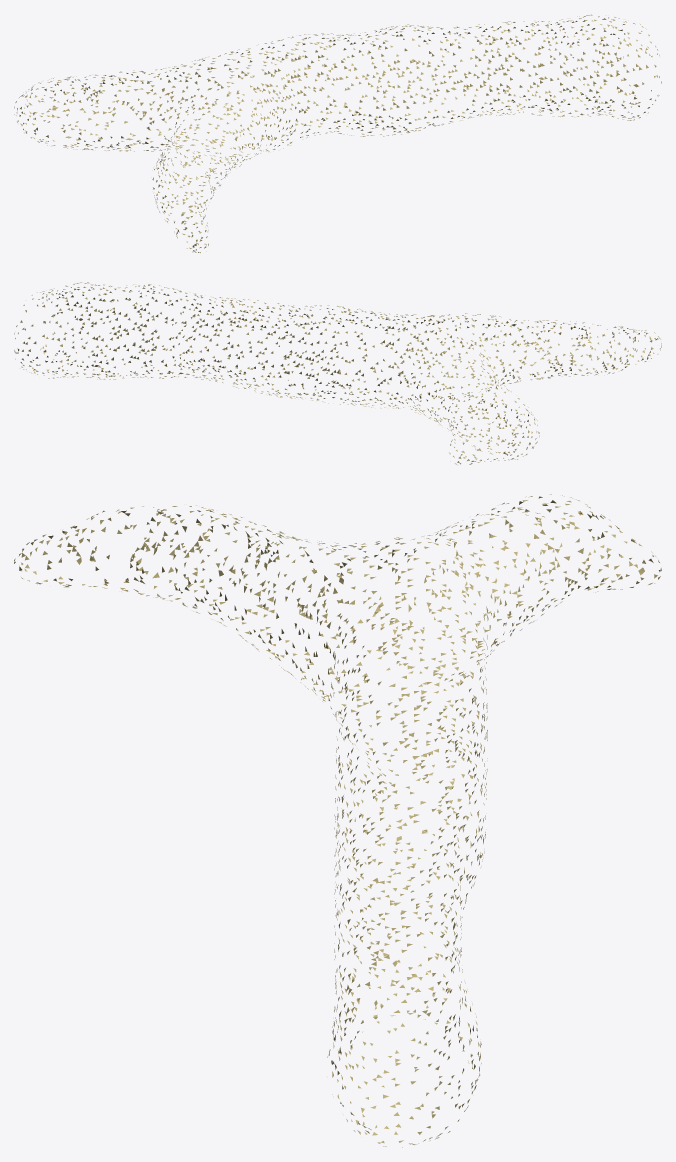
The model's file is morph_008.glb.
3 views of the same model, one above another, from view 1: azimuth 30°, elevation 25°; view 2: azimuth 150°, elevation 25°; view 3: azimuth 270°, elevation 25° (orthographic). The views are drawn at different scales.
Size of the model in its own units: 131 by 32.68 by 75.66.
